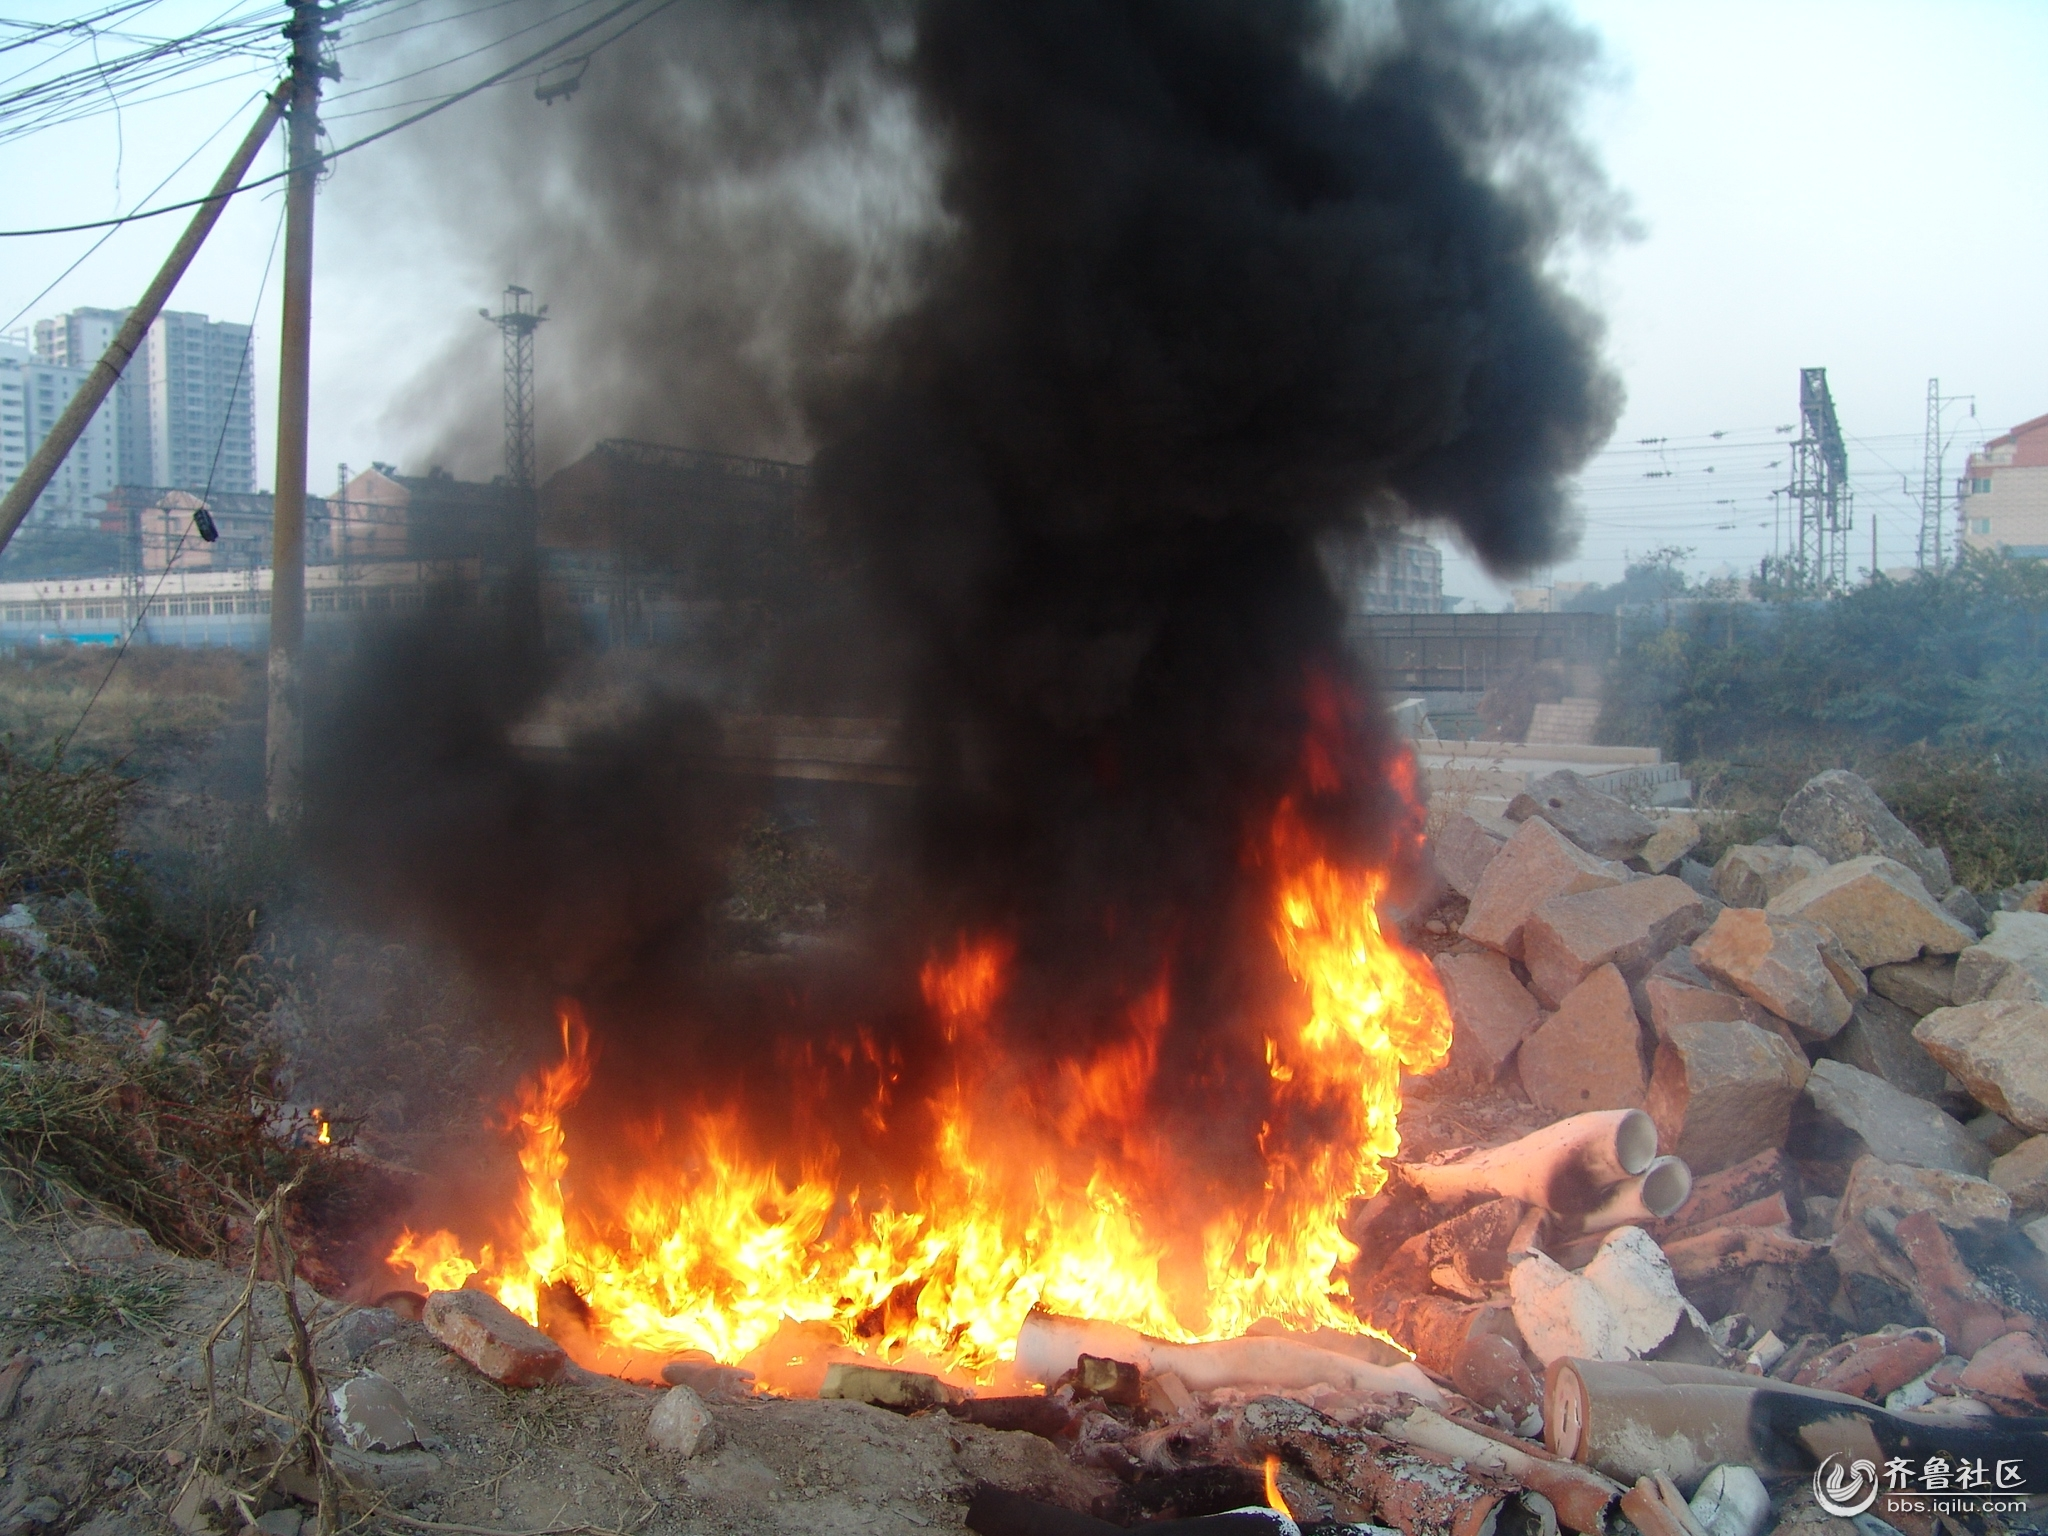fire: (493, 731, 1417, 1375)
